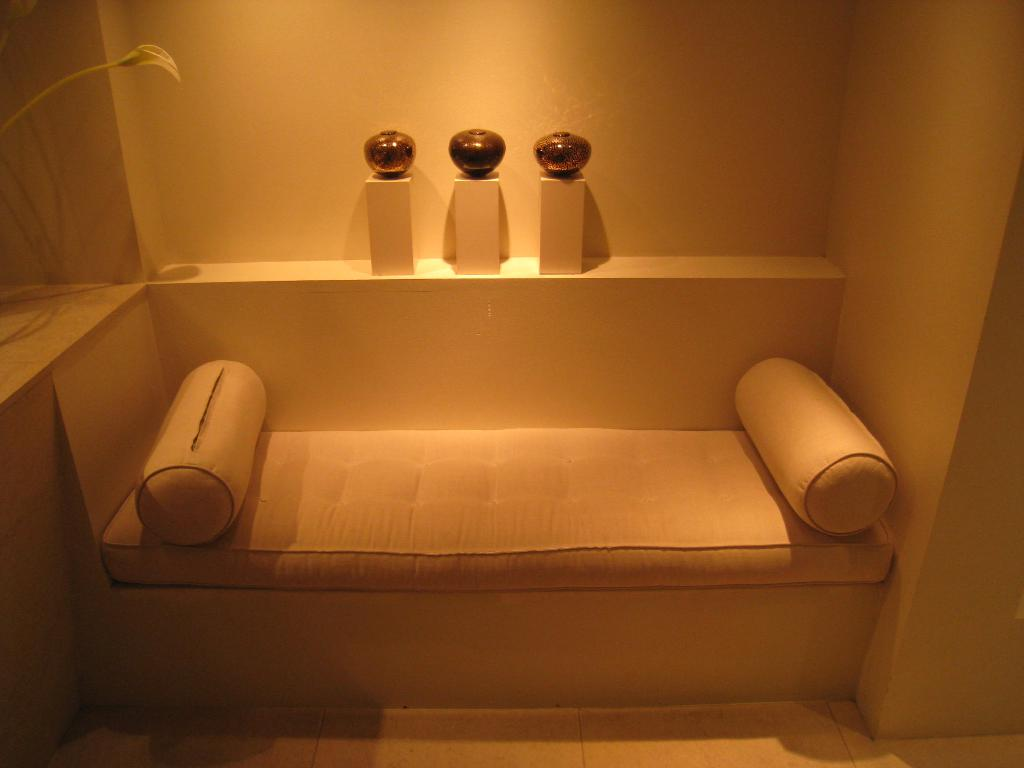Couch: (31, 331, 892, 755)
